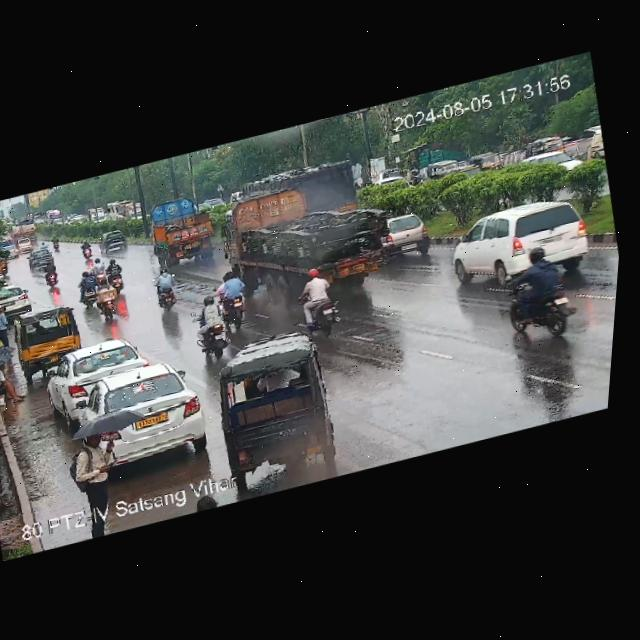car: (201, 325, 354, 487), (70, 354, 218, 481), (456, 194, 597, 295), (41, 328, 155, 398), (9, 303, 89, 364), (381, 212, 429, 265), (526, 132, 571, 161), (99, 227, 133, 257), (472, 147, 505, 176)
motorcycle: (492, 242, 582, 348), (291, 262, 348, 336), (211, 265, 255, 328), (188, 295, 234, 352), (152, 260, 184, 310), (94, 279, 124, 321), (104, 257, 130, 294), (40, 254, 61, 289), (76, 272, 97, 306)
person: (63, 430, 118, 538), (0, 356, 22, 413), (8, 215, 41, 251), (0, 302, 20, 351)
truck: (218, 160, 409, 321), (232, 152, 368, 233), (145, 193, 225, 270)
